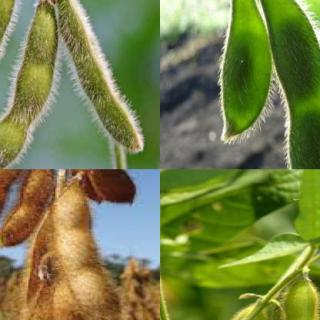soya: (58, 0, 143, 152), (253, 0, 319, 168), (0, 2, 57, 168), (50, 185, 113, 308), (218, 0, 270, 143), (1, 169, 54, 248), (0, 169, 45, 230), (285, 282, 319, 320)
